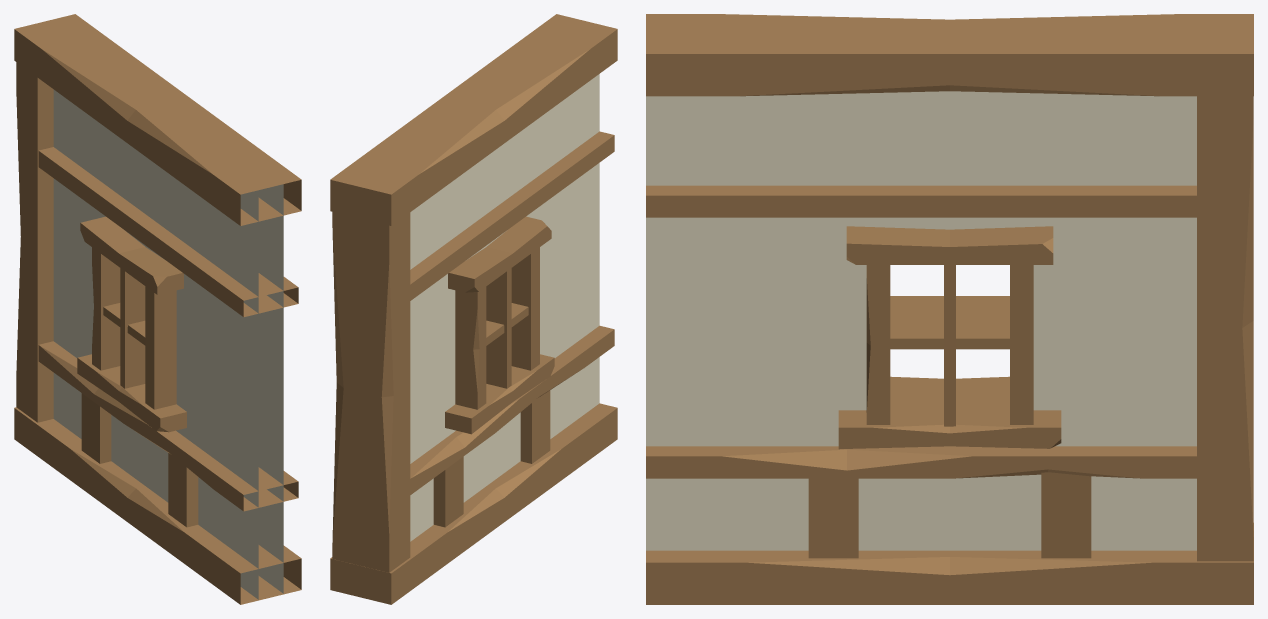
The model's file is SFV_Window3_Wooden_M_006.fbx.
The picture shows the model from 3 angles, left to right: view 1: azimuth 30°, elevation 25°; view 2: azimuth 150°, elevation 25°; view 3: azimuth 270°, elevation 25°; orthographic projection. The views are drawn at different scales.
Parts seen in each view (by area): view 1: SFV_Window3_Wooden_M_006; view 2: SFV_Window3_Wooden_M_006; view 3: SFV_Window3_Wooden_M_006.
Part boxes in pixels (x1=…): SFV_Window3_Wooden_M_006: x1=14, y1=14, x2=301, y2=604; SFV_Window3_Wooden_M_006: x1=330, y1=14, x2=617, y2=604; SFV_Window3_Wooden_M_006: x1=646, y1=14, x2=1253, y2=604.
Bounding box in the file's own units: 59.78 × 300 × 300.
